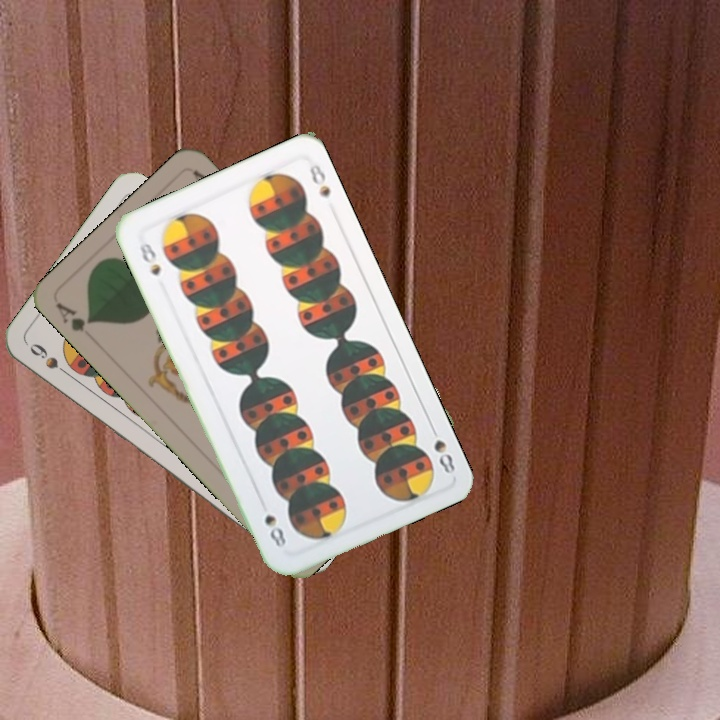GA: (51, 299, 96, 335)
S8: (426, 420, 458, 477), (135, 239, 164, 278)
S9: (25, 338, 76, 381)
